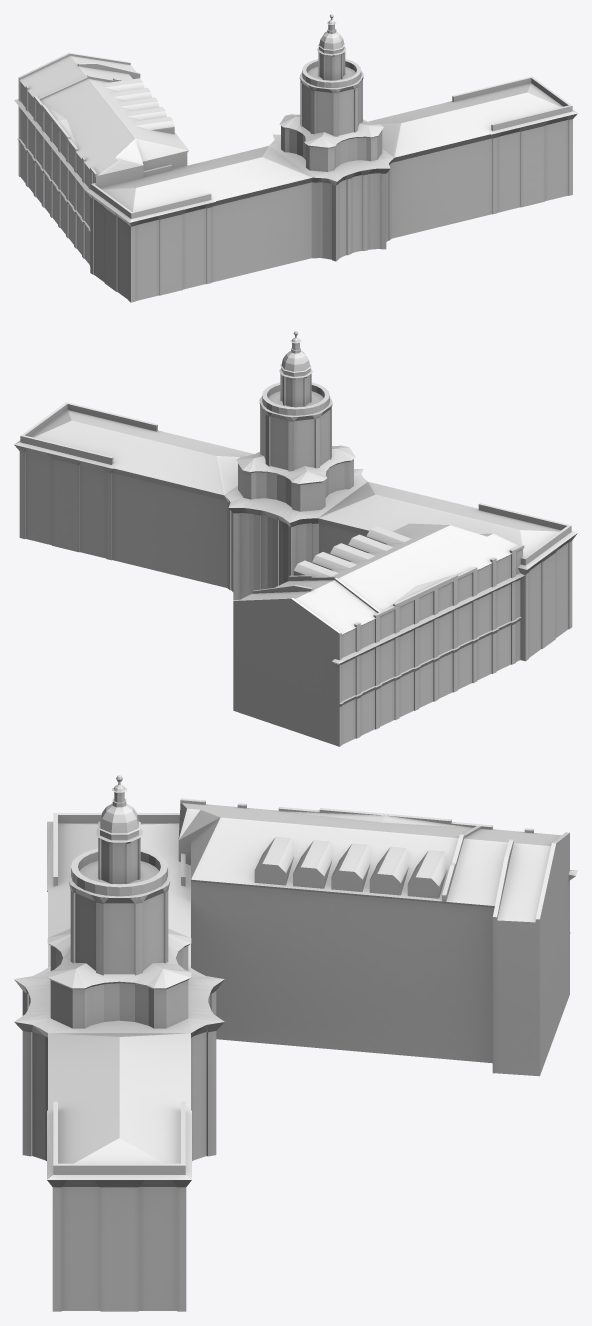
Rendered from kunckamera.dae.
The picture shows the model from 3 angles, top to bottom: view 1: azimuth 30°, elevation 25°; view 2: azimuth 150°, elevation 25°; view 3: azimuth 270°, elevation 25°; orthographic projection. The views are drawn at different scales.
Parts seen in each view (by area): view 1: kunckamera; view 2: kunckamera; view 3: kunckamera.
Part boxes in pixels (x1,y1,x2,y2): kunckamera: (14, 14, 577, 302); kunckamera: (14, 331, 577, 746); kunckamera: (14, 775, 577, 1311).
Size of the model in its own units: 0.1464 by 0.0974 by 0.0685.
Materials: 1 (1 with a texture image).
